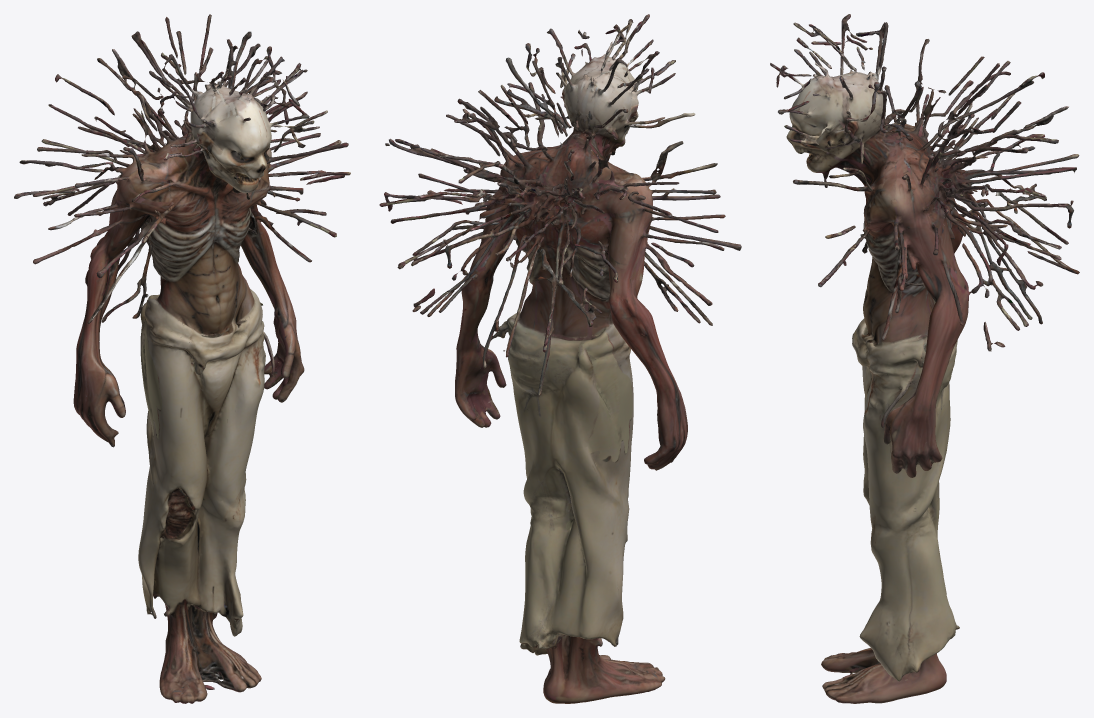
The model's file is Страшное_су_0826212545_texture.glb.
The picture shows the model from 3 angles, left to right: view 1: azimuth 30°, elevation 25°; view 2: azimuth 150°, elevation 25°; view 3: azimuth 270°, elevation 25°; orthographic projection. The views are drawn at different scales.
Size of the model in its own units: 0.9898 by 1.99 by 0.8542.
Materials: 1 (1 with a texture image).
